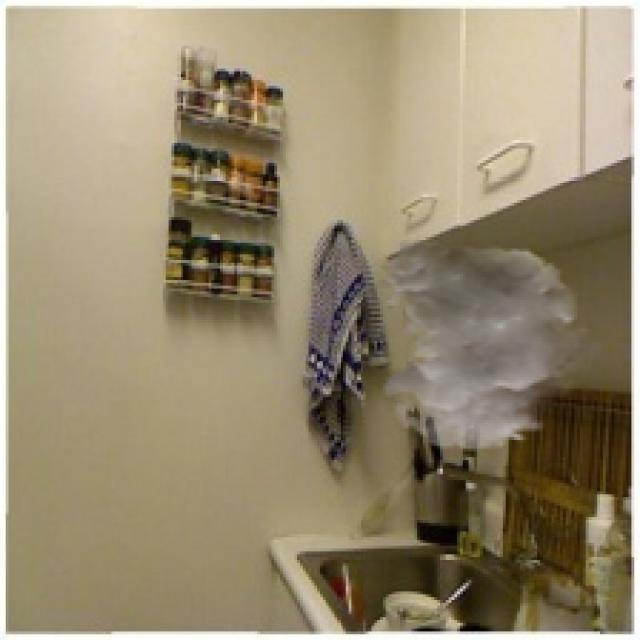Smoke: (374, 237, 606, 452)
